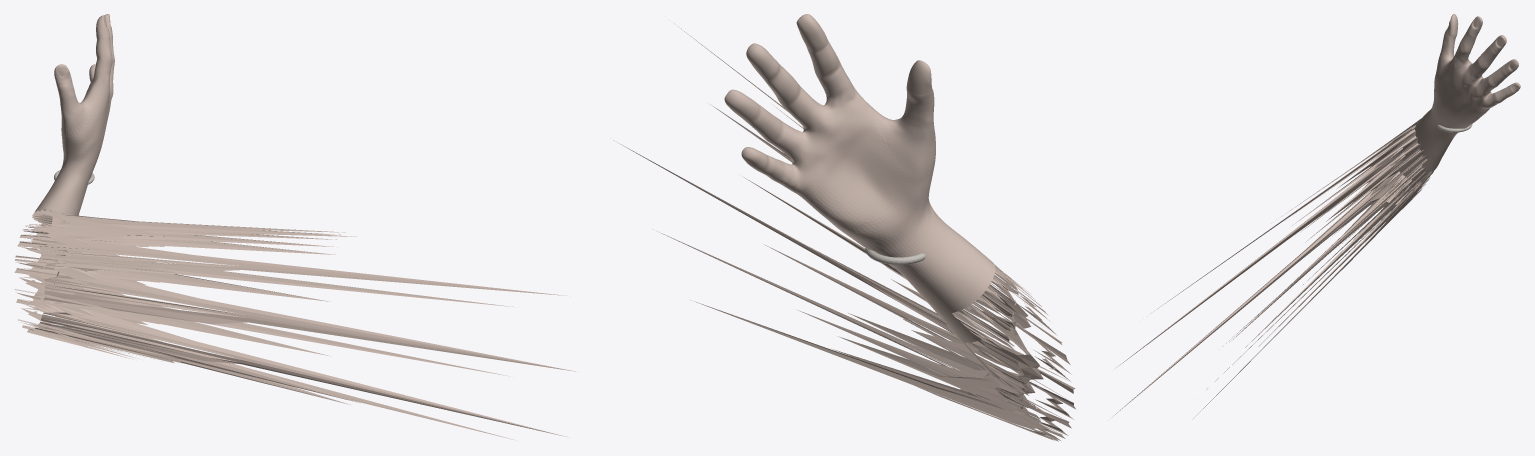
File: bracelet.glb
The picture shows the model from 3 angles, left to right: view 1: azimuth 30°, elevation 25°; view 2: azimuth 150°, elevation 25°; view 3: azimuth 270°, elevation 25°; orthographic projection. The views are drawn at different scales.
Visible parts, largest first — view 1: kwu_bracelet_00; view 2: kwu_bracelet_00, kwu_bracelet_01; view 3: kwu_bracelet_00.
Part boxes in pixels (left/top/right/bottom): kwu_bracelet_00: left=14, top=14, right=577, bottom=440; kwu_bracelet_00: left=613, top=14, right=1075, bottom=441; kwu_bracelet_01: left=865, top=248, right=925, bottom=264; kwu_bracelet_00: left=1110, top=14, right=1520, bottom=419.
Size of the model in its own units: 6.31 by 5.49 by 6.47.
